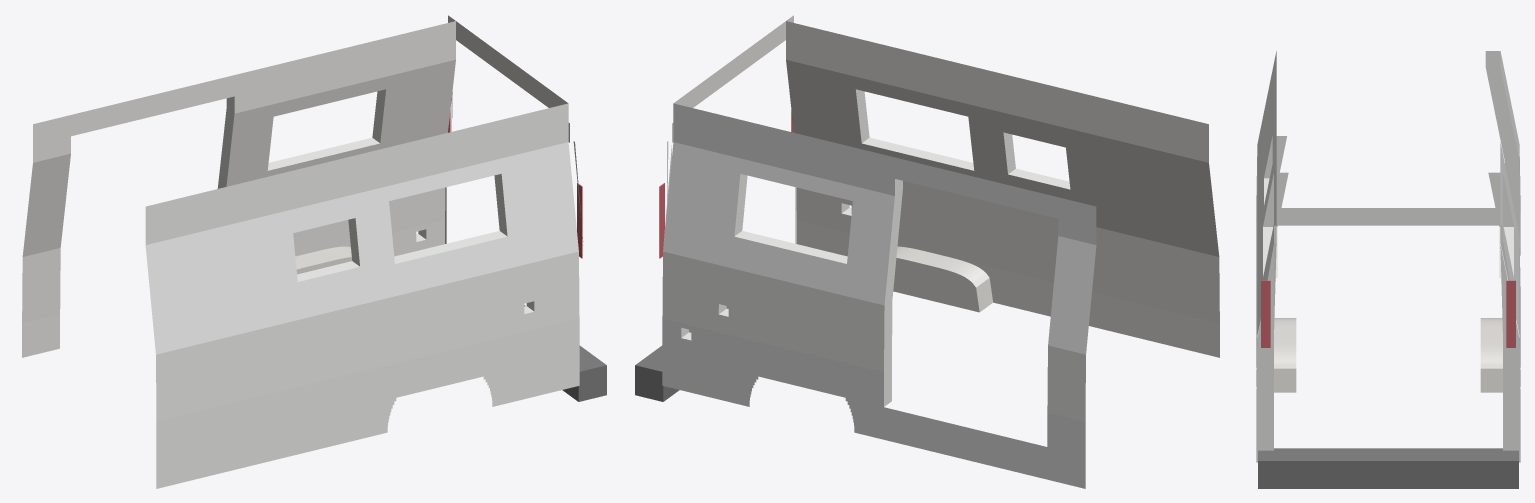
The model's file is v2-real-body-shell.glb.
3 renders of one model, left to right at view 1: azimuth 30°, elevation 25°; view 2: azimuth 150°, elevation 25°; view 3: azimuth 270°, elevation 25°, orthographic. The views are drawn at different scales.
Size of the model in its own units: 3616 by 2231 by 1976.
